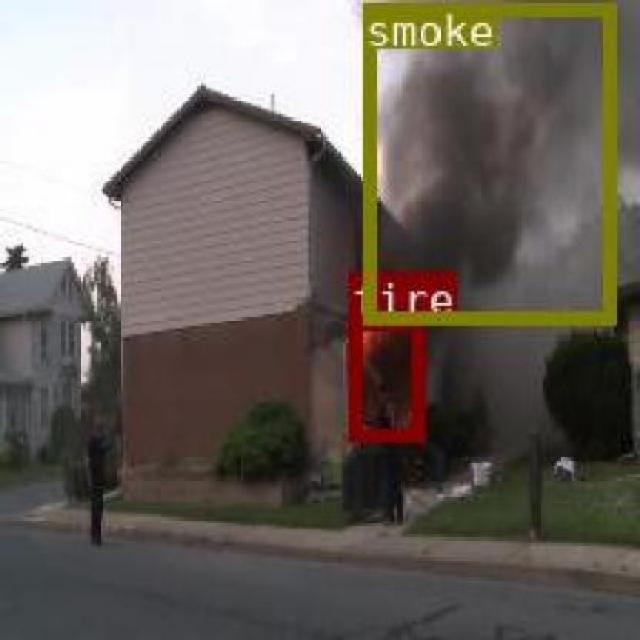Fire: (347, 316, 421, 438)
Smoke: (361, 1, 614, 322)
